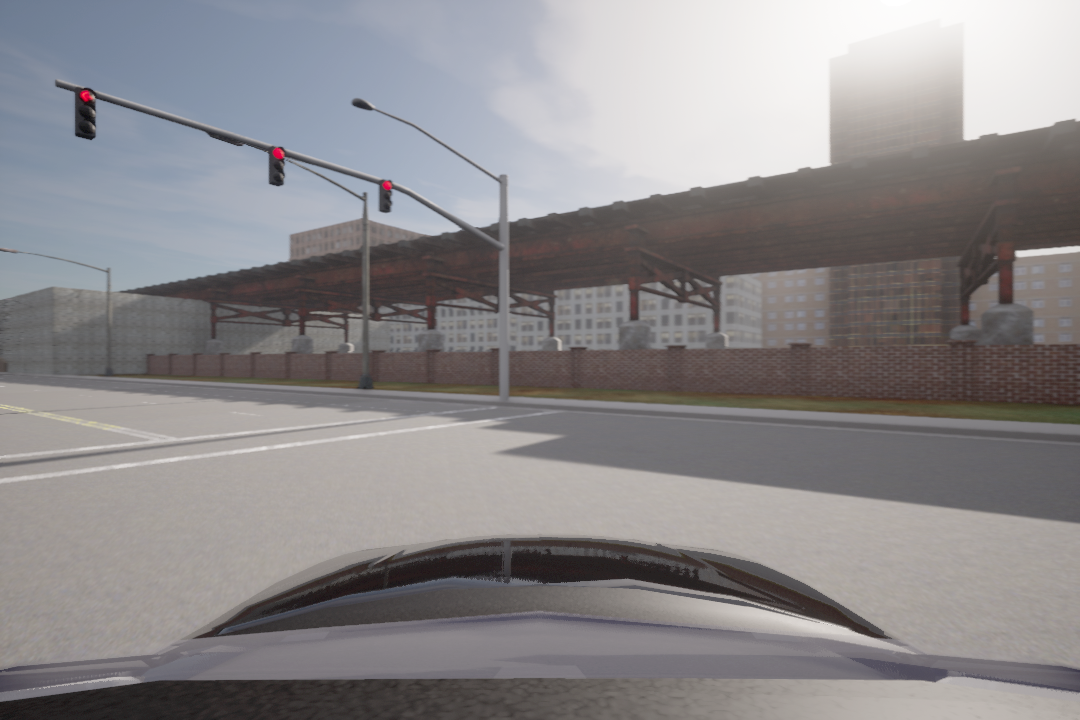TrafficLight: (71, 84, 101, 143), (267, 144, 291, 190), (377, 177, 396, 215)
